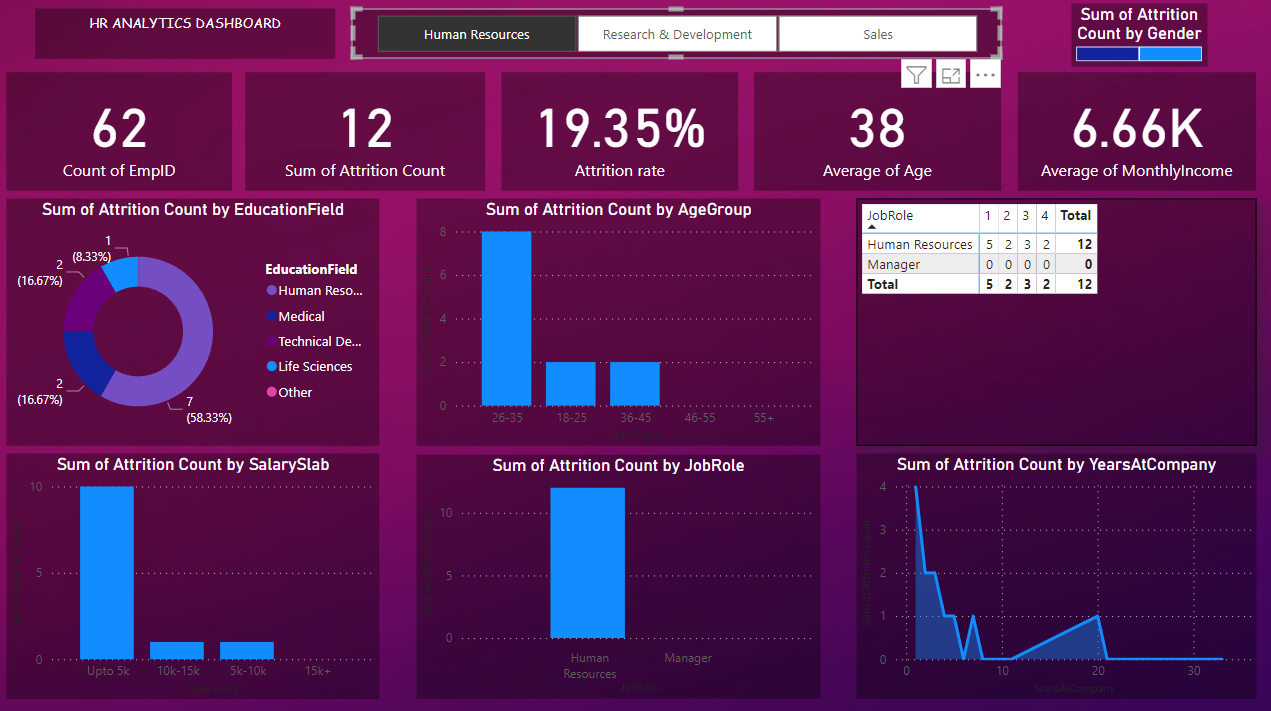

The page's visual inventory and layout, read from the dashboard file:
{"tool":"powerbi","page":{"name":"Page 1","canvas":[1280,720],"ordinal":0},"visuals":[{"type":"card","fields":{"Values":["CountNonNull(HR_Analytics (1).EmpID)"]},"box":[12.9,75.7,225.7,118.6],"z":0},{"type":"card","fields":{"Values":["Sum(HR_Analytics (1).Custom)"]},"box":[251.4,75.7,240,118.6],"z":1000},{"type":"card","fields":{"Values":["Avg(HR_Analytics (1).Age)"]},"box":[760,75.7,247.1,118.6],"z":2000},{"type":"card","fields":{"Values":["HR_Analytics (1).Attrition rate"]},"box":[507.1,75.7,237.1,118.6],"z":3000},{"type":"card","fields":{"Values":["Avg(HR_Analytics (1).MonthlyIncome)"]},"box":[1024.3,75.7,238.6,118.6],"z":4000},{"type":"donutChart","fields":{"Category":["HR_Analytics (1).EducationField"],"Y":["Sum(HR_Analytics (1).Attrition Count)"]},"box":[12.9,202.9,372.9,247.1],"z":5000},{"type":"columnChart","fields":{"Y":["Sum(HR_Analytics (1).Attrition Count)"],"Category":["HR_Analytics (1).SalarySlab"]},"box":[12.9,457.1,372.9,245.7],"z":6000},{"type":"pivotTable","fields":{"Rows":["HR_Analytics (1).JobRole"],"Columns":["HR_Analytics (1).JobSatisfaction"],"Values":["Sum(HR_Analytics (1).Attrition Count)"]},"box":[862.9,202.9,400,247.1],"z":7000},{"type":"columnChart","fields":{"Category":["HR_Analytics (1).AgeGroup"],"Y":["Sum(HR_Analytics (1).Attrition Count)"]},"box":[422.9,202.9,404.3,247.1],"z":8000},{"type":"areaChart","fields":{"Category":["HR_Analytics (1).YearsAtCompany"],"Y":["Sum(HR_Analytics (1).Attrition Count)"]},"box":[862.9,457.1,400,245.7],"z":9000},{"type":"columnChart","fields":{"Category":["HR_Analytics (1).JobRole"],"Y":["Sum(HR_Analytics (1).Attrition Count)"]},"box":[422.9,458.6,404.3,244.3],"z":10000},{"type":"treemap","fields":{"Values":["Sum(HR_Analytics (1).Attrition Count)"],"Group":["HR_Analytics (1).Gender"]},"box":[1077.1,7.1,135.7,62.9],"z":12000},{"type":"slicer","fields":{"Values":["HR_Analytics (1).Department"]},"box":[357.1,12.9,650,50],"z":13000},{"type":"textbox","box":[41.4,12.9,300,50],"z":14000}]}

Visuals, with their boxes in screenshot pixels (x1, y1, x2, y2), scaled from the page's 1280x720 canvas onto the 1271x711 screenshot:
card - CountNonNull(HR_Analytics (1).EmpID): 13 75 237 192
card - Sum(HR_Analytics (1).Custom): 250 75 488 192
card - Avg(HR_Analytics (1).Age): 755 75 1000 192
card - HR_Analytics (1).Attrition rate: 504 75 739 192
card - Avg(HR_Analytics (1).MonthlyIncome): 1017 75 1254 192
donutChart - HR_Analytics (1).EducationField x Sum(HR_Analytics (1).Attrition Count): 13 200 383 444
columnChart - Sum(HR_Analytics (1).Attrition Count) x HR_Analytics (1).SalarySlab: 13 451 383 694
pivotTable - HR_Analytics (1).JobRole x HR_Analytics (1).JobSatisfaction: 857 200 1254 444
columnChart - HR_Analytics (1).AgeGroup x Sum(HR_Analytics (1).Attrition Count): 420 200 821 444
areaChart - HR_Analytics (1).YearsAtCompany x Sum(HR_Analytics (1).Attrition Count): 857 451 1254 694
columnChart - HR_Analytics (1).JobRole x Sum(HR_Analytics (1).Attrition Count): 420 453 821 694
treemap - Sum(HR_Analytics (1).Attrition Count) x HR_Analytics (1).Gender: 1070 7 1204 69
slicer - HR_Analytics (1).Department: 355 13 1000 62
textbox: 41 13 339 62
